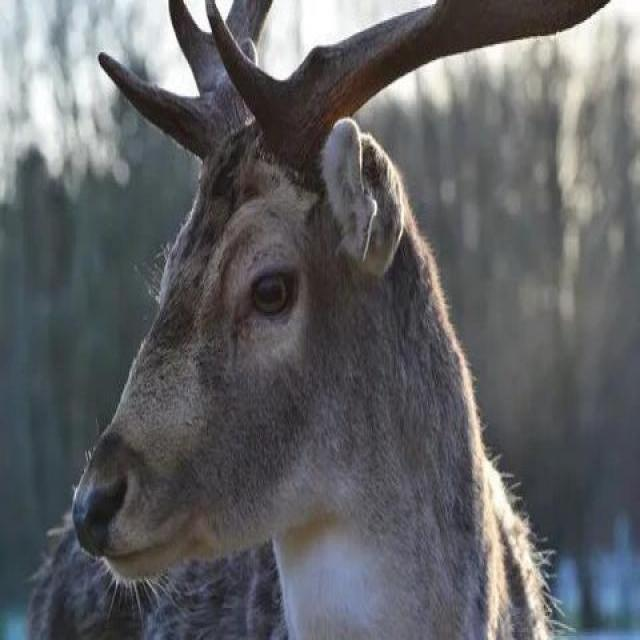deer: (62, 10, 585, 640)
